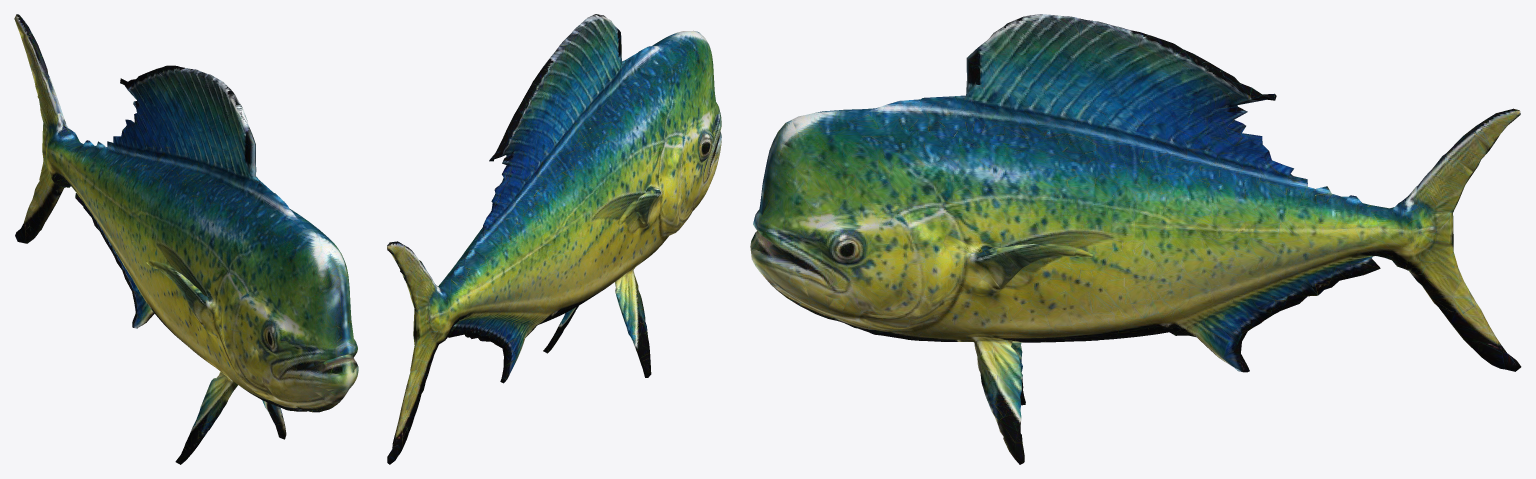
File: fish_mahi.glb
3 views of the same model, side by side, from view 1: azimuth 30°, elevation 25°; view 2: azimuth 150°, elevation 25°; view 3: azimuth 270°, elevation 25° (orthographic). The views are drawn at different scales.
Parts seen in each view (by area): view 1: geometry_0; view 2: geometry_0; view 3: geometry_0.
Boxes of the visible parts, bbox=[...] form: geometry_0: bbox=[14, 14, 358, 464]; geometry_0: bbox=[387, 14, 721, 464]; geometry_0: bbox=[750, 14, 1521, 464].
Bounding box in the file's own units: 0.3716 × 1.18 × 1.96.
1 material, 1 textured.
